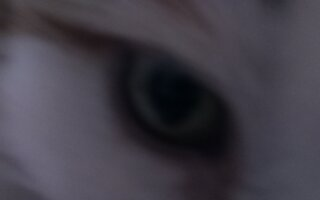clara: (2, 3, 317, 196)
